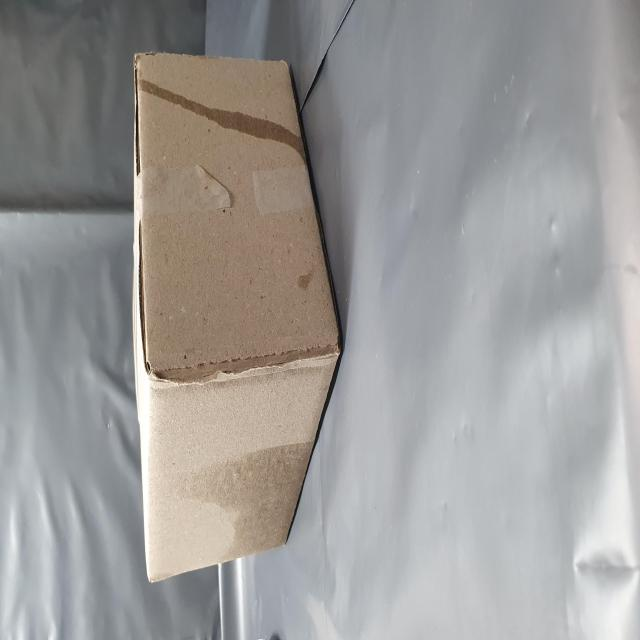wet: (269, 237, 322, 558), (40, 389, 112, 549)
